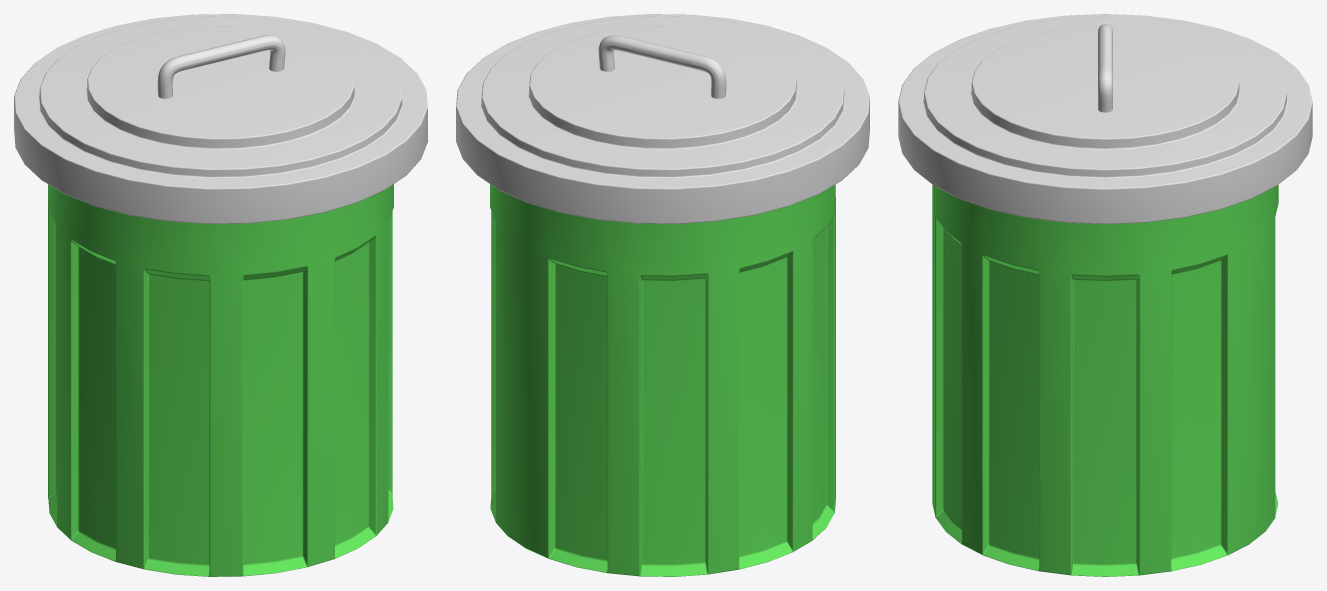
File: TrashCan.fbx
3 renders of one model, left to right at view 1: azimuth 30°, elevation 25°; view 2: azimuth 150°, elevation 25°; view 3: azimuth 270°, elevation 25°, orthographic.
Parts seen in each view (by area): view 1: Trash_Can; view 2: Trash_Can; view 3: Trash_Can.
Boxes of the visible parts, left/top/right/bottom form: Trash_Can: left=14, top=14, right=427, bottom=576; Trash_Can: left=456, top=14, right=869, bottom=576; Trash_Can: left=898, top=14, right=1312, bottom=576.
Size of the model in its own units: 310 by 378 by 310.
